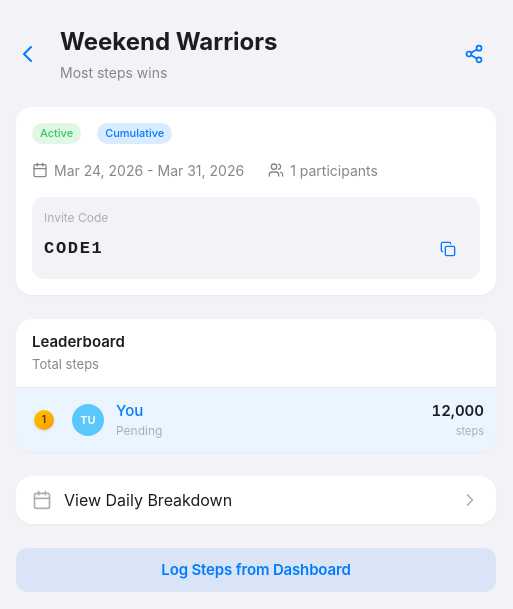
Test: ChallengeDetail › copies invite code via button
expect the text "Invite Code" is shown: met, box [44, 210, 108, 224]
What coordinates should you click on to do the following:
click the button named "copy invite code"
I would click on:
 (448, 248)
Its box is [428, 230, 468, 266].
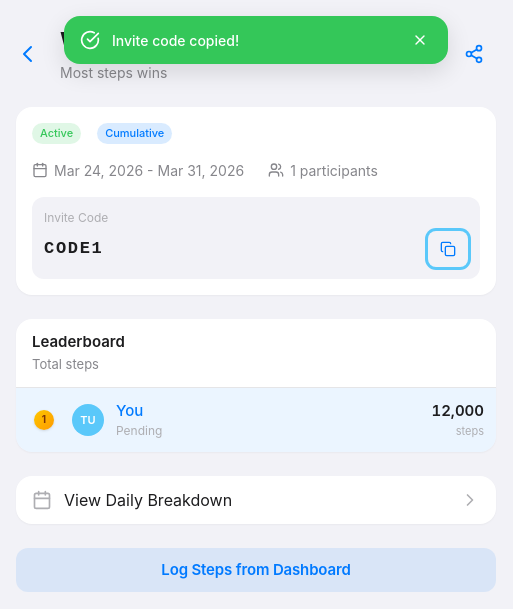
expect the text "Invite code copied!" is shown: met, box [112, 32, 239, 48]
